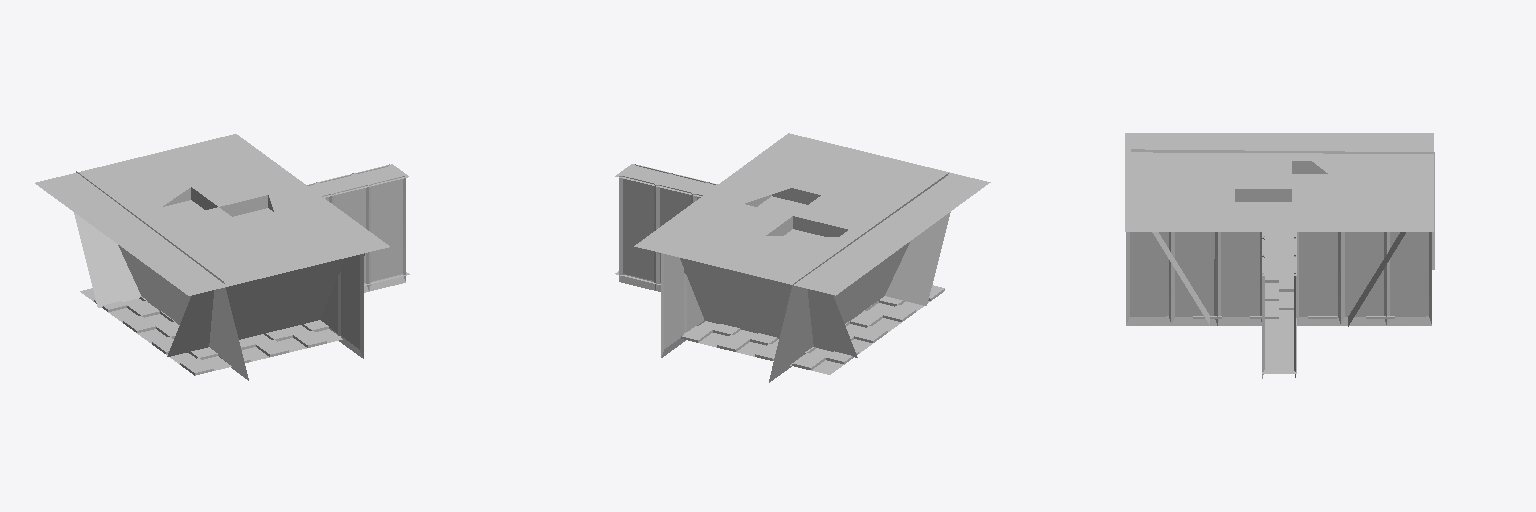
Rendered from showRoom.obj.
The picture shows the model from 3 angles: view 1: azimuth 30°, elevation 25°; view 2: azimuth 150°, elevation 25°; view 3: azimuth 270°, elevation 25°; orthographic projection.
Parts seen in each view (by area): view 1: Plane.002; view 2: Plane.002; view 3: Plane.002.
Boxes of the visible parts, <box> form: Plane.002: <box>35,134,409,380</box>; Plane.002: <box>615,133,990,382</box>; Plane.002: <box>1125,133,1434,378</box>.
Bounding box in the file's own units: 31.7 × 11.44 × 29.46.